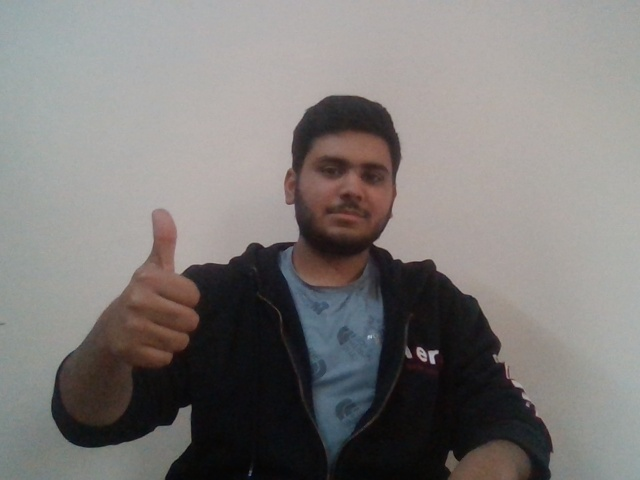Yes: (106, 200, 225, 368)
